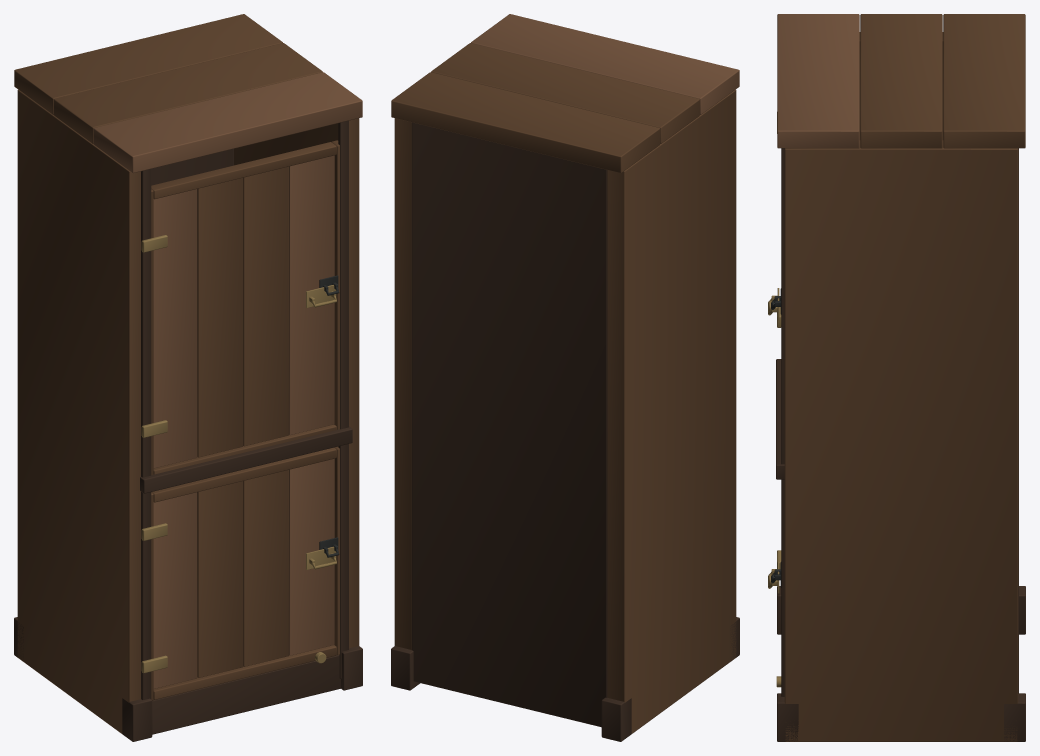
The model's file is kominka-icebox-01.glb.
3 renders of one model, left to right at view 1: azimuth 30°, elevation 25°; view 2: azimuth 150°, elevation 25°; view 3: azimuth 270°, elevation 25°, orthographic. The views are drawn at different scales.
Parts seen in each view (by area): view 1: kominka-icebox-01; view 2: kominka-icebox-01; view 3: kominka-icebox-01.
Boxes of the visible parts, left/top/right/bottom form: kominka-icebox-01: left=14, top=14, right=362, bottom=741; kominka-icebox-01: left=391, top=14, right=739, bottom=741; kominka-icebox-01: left=768, top=14, right=1025, bottom=741.
Size of the model in its own units: 0.7 by 1.7 by 0.65.
